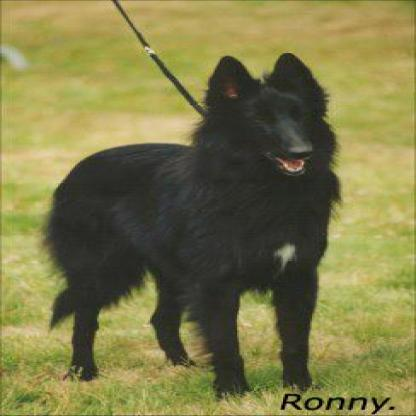groenendael: (36, 49, 339, 393)
